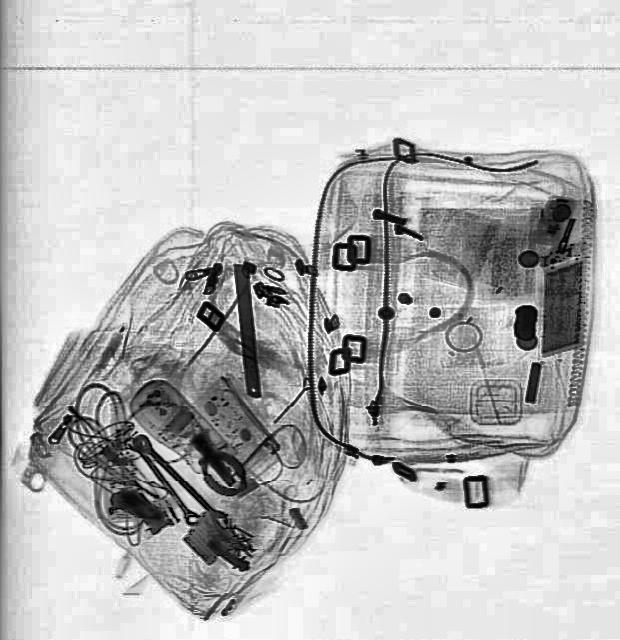Wrench: (122, 435, 202, 529)
